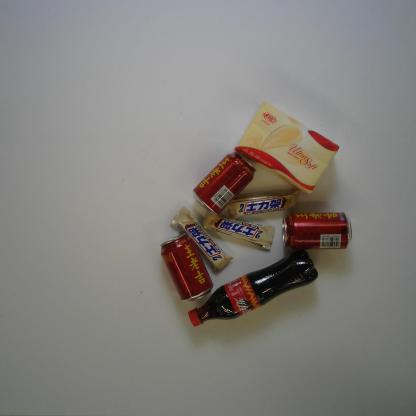Chocolate: (169, 205, 234, 274), (199, 210, 276, 252), (226, 187, 303, 219)
Drink: (187, 247, 321, 329), (189, 149, 257, 217), (160, 232, 214, 304), (281, 211, 353, 250)
Tissue: (233, 100, 340, 194)
